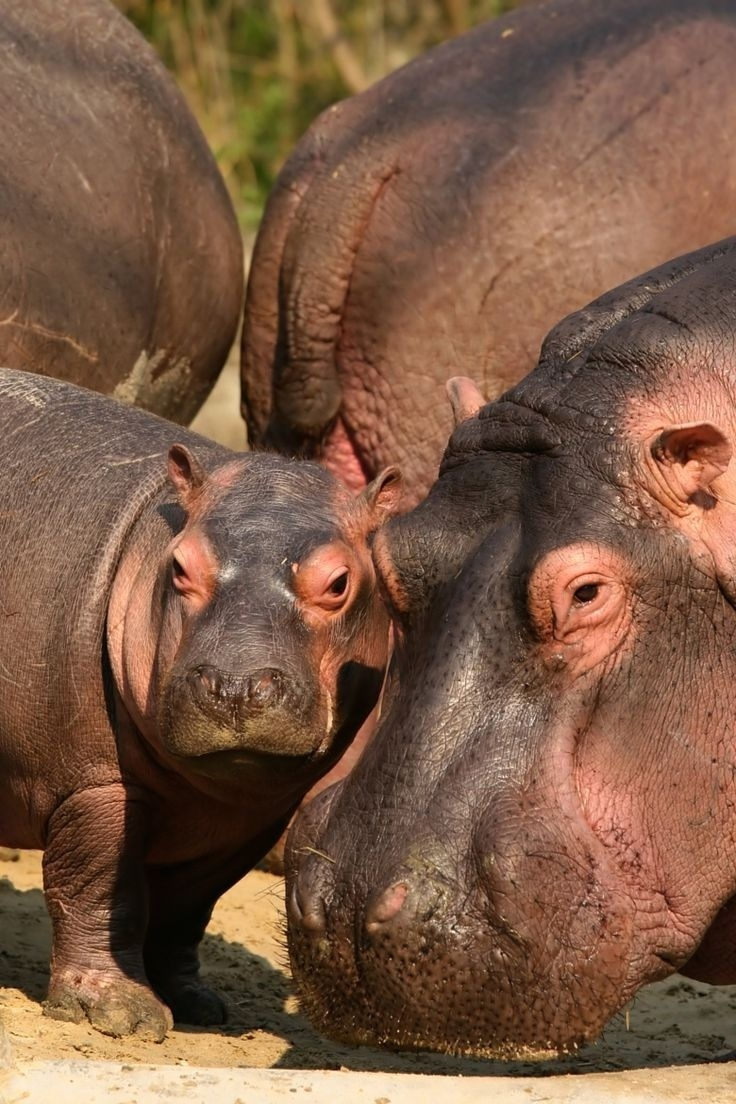hipopotamo: (277, 255, 736, 1088), (1, 344, 406, 1065), (243, 1, 736, 440), (4, 7, 245, 425)
